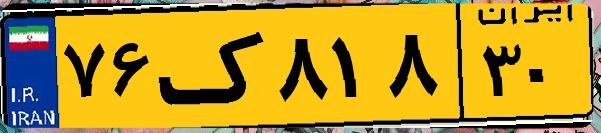0: (525, 38, 570, 115)
1: (330, 28, 385, 110)
3: (475, 38, 525, 113)
6: (110, 28, 158, 98)
7: (57, 26, 110, 100)
8: (270, 28, 330, 110), (385, 28, 445, 110)
ک: (158, 12, 270, 120)
